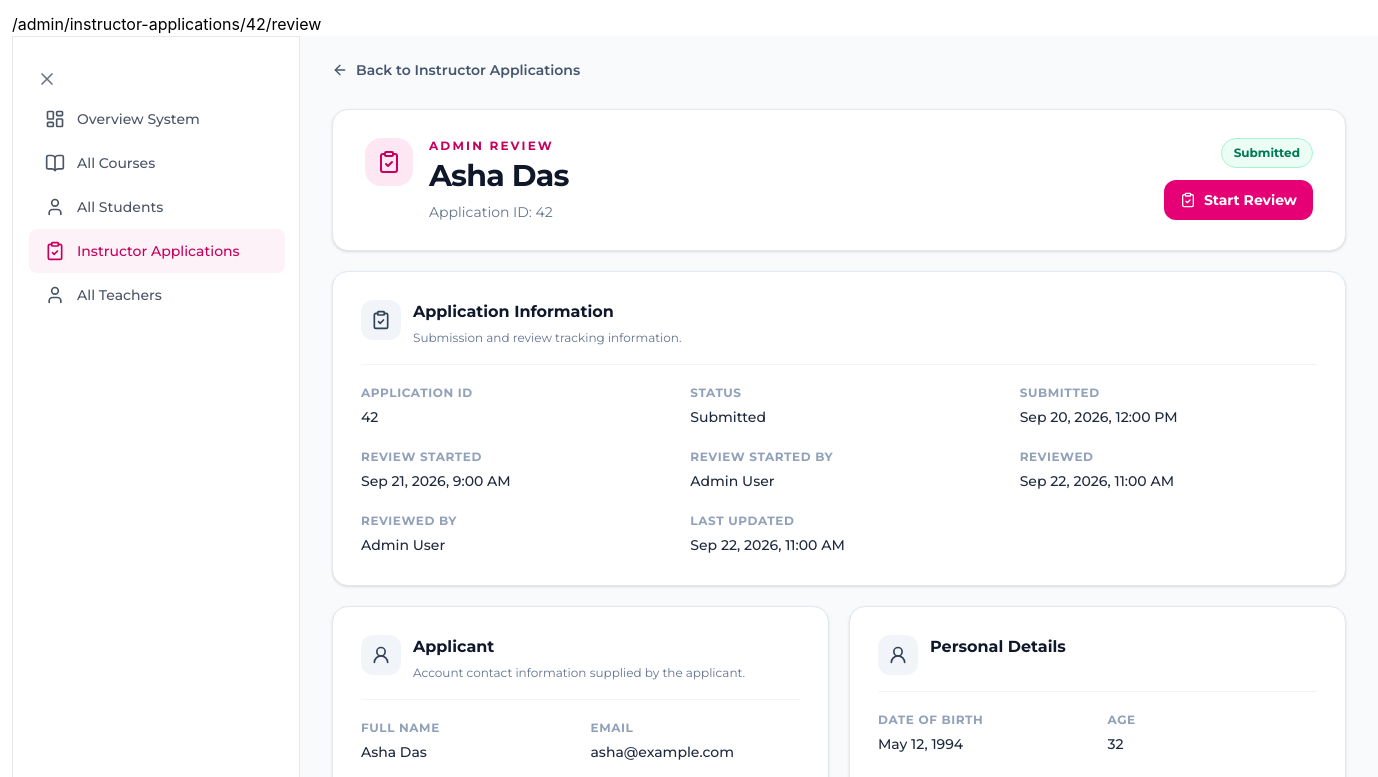
Instructor application review detail › keeps the submitted state and shows a useful conflict error when Start Review fails
The width and height of the screenshot is (1378, 777).
Click the button "Start Review" at (1238, 200), box [1164, 180, 1313, 220]
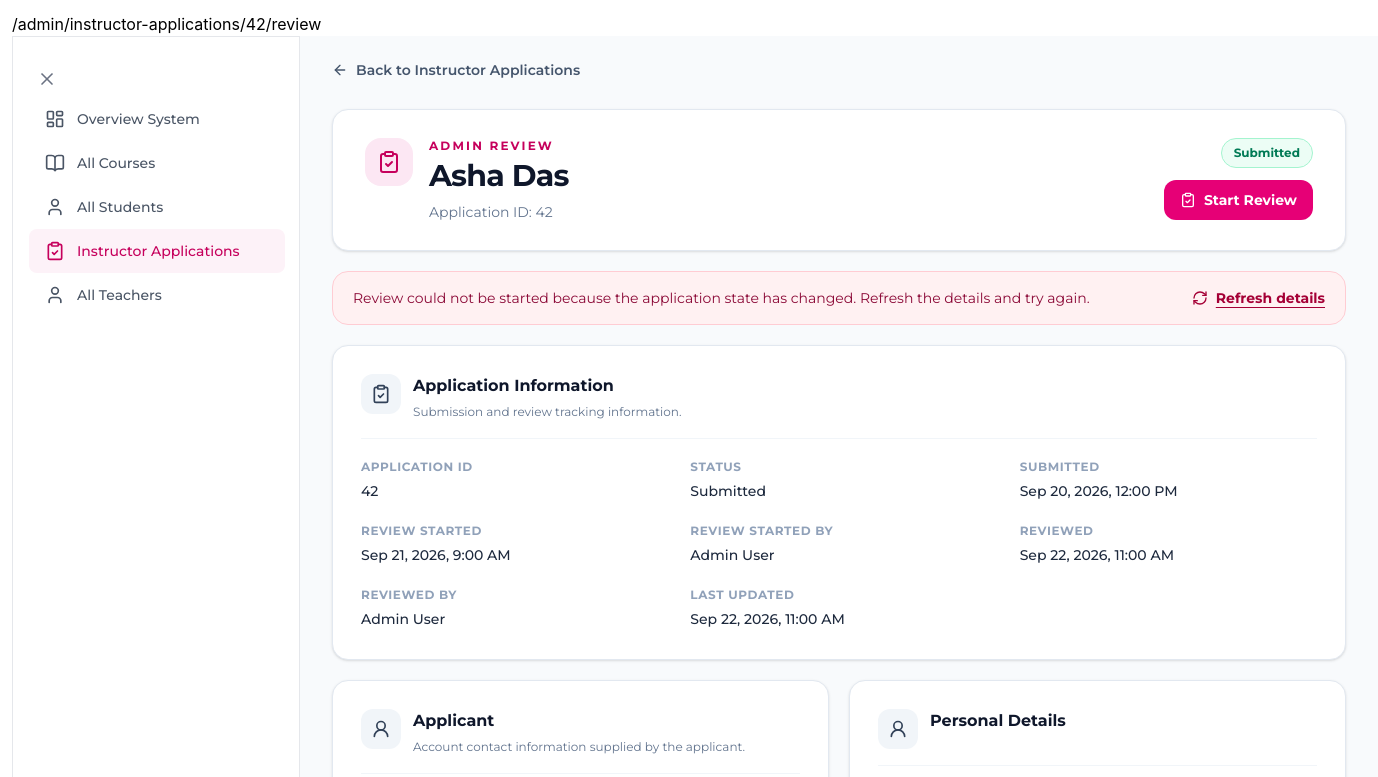
Expected: the message shows "application state has changed", [353, 289, 1090, 307]
